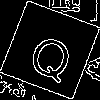Q: (25, 25, 79, 86)
